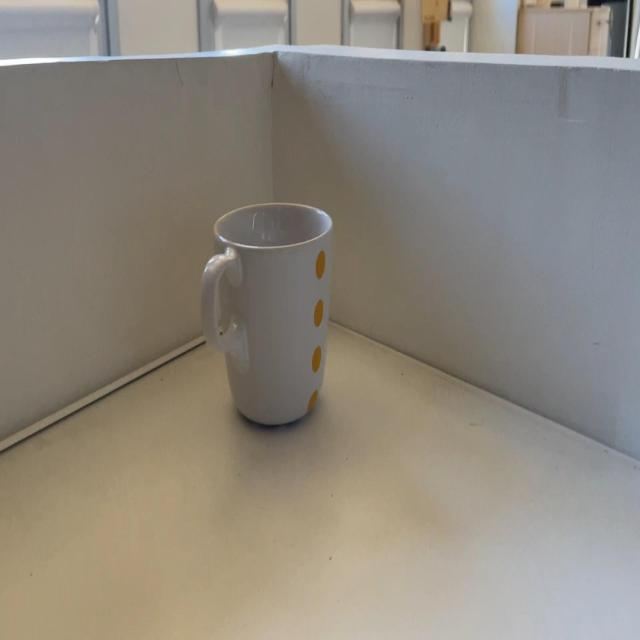cup: (199, 199, 340, 423)
